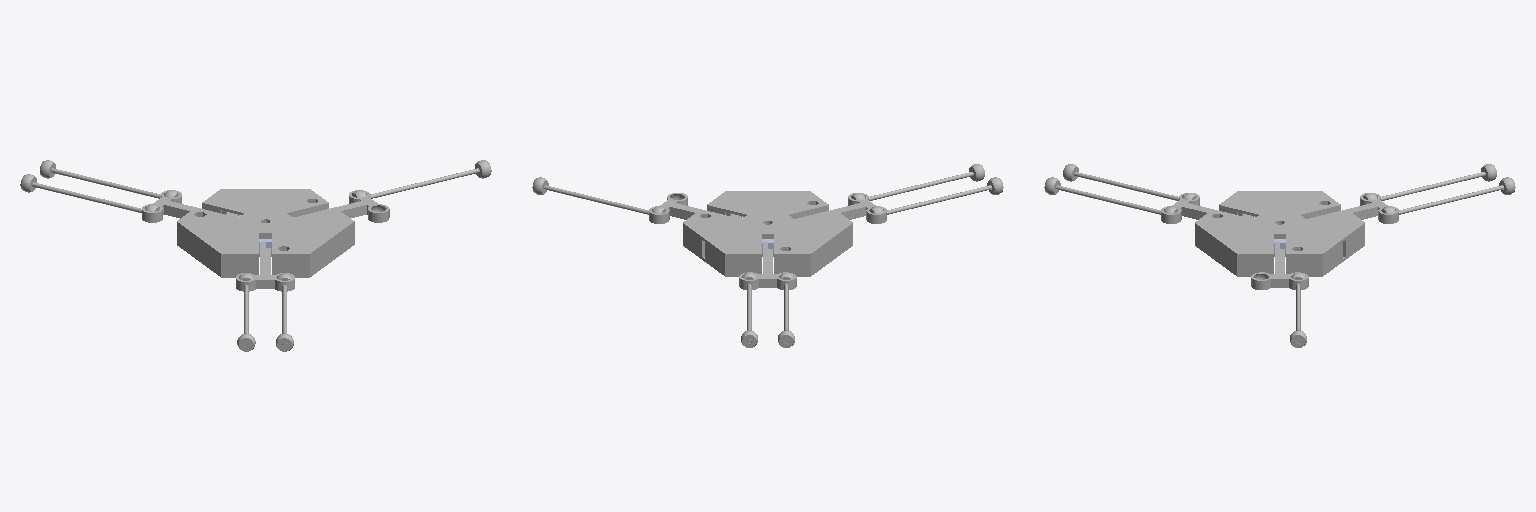
The robot description file, URDF, robot "delta_robot":
<?xml version="1.0" encoding="utf-8"?>
<!-- This URDF was automatically created by SolidWorks to URDF Exporter! -->
<robot name="delta_robot">
  <link name="base_footprint"/>

  <joint name="base" type="fixed">
    <origin xyz="0 0 1" rpy="0 0 0" />
    <parent link="base_footprint" />
    <child link="base_link" />
    <axis xyz="0 0 0" />
  </joint>

  <link name="base_link">
    <inertial>
      <origin xyz="-5.1924E-05 -8.9934E-05 -0.0009175" rpy="0 0 0" />
      <mass value="0.049302" />
      <inertia ixx="4.072E-05" ixy="1.0945E-07" ixz="-1.03E-08" iyy="4.0846E-05" iyz="-1.7839E-08" izz="8.0293E-05" />
    </inertial>
    <visual>
      <origin xyz="0 0 0" rpy="0 0 0" />
      <geometry>
        <mesh filename="package://delta_robot_description/meshes/base_link.STL" />
      </geometry>
      <material name="">
        <color rgba="0.75294 0.75294 0.75294 1" />
      </material>
    </visual>
    <collision>
      <origin xyz="0 0 0" rpy="0 0 0" />
      <geometry>
        <mesh filename="package://delta_robot_description/meshes/base_link.STL" />
      </geometry>
    </collision>
  </link>

  <joint name="proximal_base1" type="revolute">
    <origin xyz="0.028 0 0" rpy="0 0 0" />
    <parent link="base_link" />
    <child link="proximal_link1" />
    <axis xyz="0 1 0" />
    <limit lower="0" upper="1.5708" effort="0" velocity="0" />
  </joint>

  <link name="proximal_link1">
    <inertial>
      <origin xyz="0 0 0" rpy="0 0 0" />
      <mass value="0.0034691" />
      <inertia ixx="1.4895E-07" ixy="-1.071E-08" ixz="8.8878E-23" iyy="1.0031E-06" iyz="5.982E-24" izz="1.1223E-06" />
    </inertial>
    <visual>
      <origin xyz="0 0 0" rpy="0 0 0" />
      <geometry>
        <mesh filename="package://delta_robot_description/meshes/proximal_link1.STL" />
      </geometry>
      <material name="">
        <color rgba="0.75294 0.75294 0.75294 1" />
      </material>
    </visual>
    <collision>
      <origin xyz="0 0 0" rpy="0 0 0" />
      <geometry>
        <mesh filename="package://delta_robot_description/meshes/proximal_link1.STL" />
      </geometry>
    </collision>
  </link>

  <joint name="distal_proximal_1_y" type="revolute">
    <origin xyz="0.05 -0.0125 0" rpy="0 0 0" />
    <parent link="proximal_link1" />
    <child link="shoulder_dp1" />
    <axis xyz="0 1 0" />
    <limit lower="-3.14159" upper="3.14159" effort="0" velocity="0" />
  </joint>

  <link name="shoulder_dp1">
    <inertial>
      <origin xyz="0 0 0" rpy="0 0 0" />
      <mass value="0.0001" />
      <inertia ixx="0" ixy="0" ixz="0" iyy="0" iyz="0" izz="0" />
    </inertial>
  </link>

  <joint name="distal_proximal_1_x" type="revolute">
    <origin xyz="0 0 0" rpy="0 0 0" />
    <parent link="shoulder_dp1" />
    <child link="distal_link1" />
    <axis xyz="0 0 -1" />
    <limit lower="-3.14159" upper="3.14159" effort="0" velocity="0" />
  </joint>


  <!--joint name="distal_proximal_1" type="revolute">
    <origin xyz="0.05 -0.0125 0" rpy="0 0 0" />
    <parent link="proximal_link1" />
    <child link="distal_link1" />
    <axis xyz="0 1 0" />
    <limit lower="0" upper="1.5708" effort="0" velocity="0" />
  </joint-->

  <link name="distal_link1">
    <inertial>
      <origin xyz="0 -0 0" rpy="0 0 0" />
      <mass value="0.001998" />
      <inertia ixx="2.3346E-08" ixy="2.0322E-21" ixz="2.0321E-21" iyy="6.0541E-07" iyz="-1.3028E-24" izz="6.0541E-07" />
    </inertial>
    <visual>
      <origin xyz="0 0 0" rpy="0 0 0" />
      <geometry>
        <mesh filename="package://delta_robot_description/meshes/distal_link1.STL" />
      </geometry>
      <material name="">
        <color rgba="0.75294 0.75294 0.75294 1" />
      </material>
    </visual>
    <collision>
      <origin xyz="0 0 0" rpy="0 0 0" />
      <geometry>
        <mesh filename="package://delta_robot_description/meshes/distal_link1.STL" />
      </geometry>
    </collision>
  </link>

 

  <!--joint name="platform_distal" type="revolute">
    <origin xyz="0.093 0 0" rpy="0 0 0" />
    <parent link="distal_link1" />
    <child link="platform_link" />
    <axis xyz="0 1 0" />
    <limit lower="0" upper="1.5708" effort="0" velocity="0" />
  </joint-->
  <joint name="platform_base_z" type="prismatic">
    <origin xyz="0 0 0" rpy="0 0 0" />
    <parent link="base_link" />
    <child link="connector_pb1" />
    <axis xyz="0 0 1" />
    <limit lower="-0.2" upper="0.0" effort="0" velocity="0" />
  </joint>

  <link name="connector_pb1">
    <inertial>
      <origin xyz="0 0 0" rpy="0 0 0" />
      <mass value="0.0001" />
      <inertia ixx="0" ixy="0" ixz="0" iyy="0" iyz="0" izz="0" />
    </inertial>
  </link>

  <joint name="platform_base_x" type="prismatic">
    <origin xyz="0 0 0" rpy="0 0 0" />
    <parent link="connector_pb1" />
    <child link="connector_pb2" />
    <axis xyz="1 0 0" />
    <limit lower="-0.2" upper="0.2" effort="0" velocity="0" />
  </joint>

  <link name="connector_pb2">
    <inertial>
      <origin xyz="0 0 0" rpy="0 0 0" />
      <mass value="0.0001" />
      <inertia ixx="0" ixy="0" ixz="0" iyy="0" iyz="0" izz="0" />
    </inertial>
  </link>

  <joint name="platform_base_y" type="prismatic">
    <origin xyz="0 0 0" rpy="0 0 0" />
    <parent link="connector_pb2" />
    <child link="platform_link" />
    <axis xyz="0 1 0" />
    <limit lower="-0.2" upper="0.2" effort="0" velocity="0" />
  </joint>





  <link name="platform_link">
    <inertial>
      <origin xyz="0 0 0" rpy="0 0 0" />
      <mass value="0.0065362" />
      <inertia ixx="1.1161E-06" ixy="4.382E-22" ixz="8.9273E-24" iyy="1.1161E-06" iyz="7.1644E-23" izz="2.1753E-06" />
    </inertial>
    <visual>
      <origin xyz="0 0 0" rpy="0 0 0" />
      <geometry>
        <mesh filename="package://delta_robot_description/meshes/platform_link.STL" />
      </geometry>
      <material name="">
        <color rgba="0.79216 0.81961 0.93333 1" />
      </material>
    </visual>
    <collision>
      <origin xyz="0 0 0" rpy="0 0 0" />
      <geometry>
        <mesh filename="package://delta_robot_description/meshes/platform_link.STL" />
      </geometry>
    </collision>
  </link>

  <joint name="distal_proximal_2_y" type="revolute">
    <origin xyz="0.05 0.0125 0" rpy="0 0 0" />
    <parent link="proximal_link1" />
    <child link="shoulder_dp2" />
    <axis xyz="0 1 0" />
    <limit lower="-3.14159" upper="3.14159" effort="0" velocity="0" />
    <mimic joint="distal_proximal_1_y" multiplier="1" offset="0" />
  </joint>

  <link name="shoulder_dp2">
    <inertial>
      <origin xyz="0 0 0" rpy="0 0 0" />
      <mass value="0.0001" />
      <inertia ixx="0" ixy="0" ixz="0" iyy="0" iyz="0" izz="0" />
    </inertial>
  </link>

  <joint name="distal_proximal_2_x" type="revolute">
    <origin xyz="0 0 0" rpy="0 0 0" />
    <parent link="shoulder_dp2" />
    <child link="distal_link2" />
    <axis xyz="0 0 -1" />
    <limit lower="-3.14159" upper="3.14159" effort="0" velocity="0" />
    <mimic joint="distal_proximal_1_x" multiplier="1" offset="0" />
  </joint>

  <!--joint name="distal_proximal_2" type="revolute">
    <origin xyz="0.05 0.0125 0" rpy="0 0 0" />
    <parent link="proximal_link1" />
    <child link="distal_link2" />
    <axis xyz="0 1 0" />
    <limit lower="0" upper="1.5708" effort="0" velocity="0" />
    <mimic joint="distal_proximal_1" multiplier="1" offset="0" />
  </joint-->


  <link name="distal_link2">
    <inertial>
      <origin xyz="0 0 0" rpy="0 0 0" />
      <mass value="0.001998" />
      <inertia ixx="2.3346E-08" ixy="2.0315E-21" ixz="2.0321E-21" iyy="6.0541E-07" iyz="-1.3028E-24" izz="6.0541E-07" />
    </inertial>
    <visual>
      <origin xyz="0 0 0" rpy="0 0 0" />
      <geometry>
        <mesh filename="package://delta_robot_description/meshes/distal_link2.STL" />
      </geometry>
      <material name="">
        <color rgba="0.75294 0.75294 0.75294 1" />
      </material>
    </visual>
    <collision>
      <origin xyz="0 0 0" rpy="0 0 0" />
      <geometry>
        <mesh filename="package://delta_robot_description/meshes/distal_link2.STL" />
      </geometry>
    </collision>
  </link>

  <joint name="proximal_base2" type="revolute">
    <origin xyz="-0.014 0.024248711 0" rpy="0 0 2.094395102" />
    <parent link="base_link" />
    <child link="proximal_link2" />
    <axis xyz="0 1 0" />
    <limit lower="0" upper="1.5708" effort="0" velocity="0" />
  </joint>
  
  <link name="proximal_link2">
    <inertial>
      <origin xyz="0 0 0" rpy="0 0 0" />
      <mass value="0.0034691" />
      <inertia ixx="1.4895E-07" ixy="-1.071E-08" ixz="-3.9606E-23" iyy="1.0031E-06" iyz="-8.1197E-23" izz="1.1223E-06" />
    </inertial>
    <visual>
      <origin xyz="0 0 0" rpy="0 0 0" />
      <geometry>
        <mesh filename="package://delta_robot_description/meshes/proximal_link1.STL" />
      </geometry>
      <material name="">
        <color rgba="0.75294 0.75294 0.75294 1" />
      </material>
    </visual>
    <collision>
      <origin xyz="0 0 0" rpy="0 0 0" />
      <geometry>
        <mesh filename="package://delta_robot_description/meshes/proximal_link1.STL" />
      </geometry>
    </collision>
  </link>

  <joint name="distal_proximal_3_y" type="revolute">
    <origin xyz="0.05 -0.0125 0" rpy="0 0 0" />
    <parent link="proximal_link2" />
    <child link="shoulder_dp3" />
    <axis xyz="0 1 0" />
    <limit lower="-3.14159" upper="3.14159" effort="0" velocity="0" />
  </joint>

  <link name="shoulder_dp3">
    <inertial>
      <origin xyz="0 0 0" rpy="0 0 0" />
      <mass value="0.0001" />
      <inertia ixx="0" ixy="0" ixz="0" iyy="0" iyz="0" izz="0" />
    </inertial>
  </link>

  <joint name="distal_proximal_3_x" type="revolute">
    <origin xyz="0 0 0" rpy="0 0 0" />
    <parent link="shoulder_dp3" />
    <child link="distal_link3" />
    <axis xyz="0 0 -1" />
    <limit lower="-3.14159" upper="3.14159" effort="0" velocity="0" />
  </joint>


  <!--joint name="distal_proximal3" type="revolute">
    <origin xyz="0.0395 -0.0125 0" rpy="0 0 0" />
    <parent link="proximal_link2" />
    <child link="distal_link3" />
    <axis xyz="0 1 0" />
    <limit lower="0" upper="1.5708" effort="0" velocity="0" />
  </joint-->
  
  <link name="distal_link3">
    <inertial>
      <origin xyz="0 0 0" rpy="0 0 0" />
      <mass value="0.001998" />
      <inertia ixx="2.3346E-08" ixy="2.2723E-21" ixz="1.976E-21" iyy="6.0541E-07" iyz="-1.1526E-24" izz="6.0541E-07" />
    </inertial>
    <visual>
      <origin xyz="0 0 0" rpy="0 0 0" />
      <geometry>
        <mesh filename="package://delta_robot_description/meshes/distal_link3.STL" />
      </geometry>
      <material name="">
        <color rgba="0.75294 0.75294 0.75294 1" />
      </material>
    </visual>
    <collision>
      <origin xyz="0 0 0" rpy="0 0 0" />
      <geometry>
        <mesh filename="package://delta_robot_description/meshes/distal_link3.STL" />
      </geometry>
    </collision>
  </link>


  <joint name="distal_proximal_4_y" type="revolute">
    <origin xyz="0.05 0.0125 0" rpy="0 0 0" />
    <parent link="proximal_link2" />
    <child link="shoulder_dp4" />
    <axis xyz="0 1 0" />
    <limit lower="-3.14159" upper="3.14159" effort="0" velocity="0" />
    <mimic joint="distal_proximal_3_y" multiplier="1" offset="0" />
  </joint>

  <link name="shoulder_dp4">
    <inertial>
      <origin xyz="0 0 0" rpy="0 0 0" />
      <mass value="0.0001" />
      <inertia ixx="0" ixy="0" ixz="0" iyy="0" iyz="0" izz="0" />
    </inertial>
  </link>

  <joint name="distal_proximal_4_x" type="revolute">
    <origin xyz="0 0 0" rpy="0 0 0" />
    <parent link="shoulder_dp4" />
    <child link="distal_link4" />
    <axis xyz="0 0 -1" />
    <limit lower="-3.14159" upper="3.14159" effort="0" velocity="0" />
    <mimic joint="distal_proximal_3_x" multiplier="1" offset="0" />
  </joint>

  <!--joint name="distal_proximal4" type="revolute">
    <origin xyz="0.0395 0.0125 0" rpy="0 0 0" />
    <parent link="proximal_link2" />
    <child link="distal_link4" />
    <axis xyz="0 1 0" />
    <limit lower="0" upper="1.5708" effort="0" velocity="0" />
    <mimic joint="distal_proximal3" multiplier="1" offset="0" />
  </joint-->
  
  <link name="distal_link4">
    <inertial>
      <origin xyz="0 0 0" rpy="0 0 0" />
      <mass value="0.001998" />
      <inertia ixx="2.3346E-08" ixy="2.0473E-21" ixz="1.9762E-21" iyy="6.0541E-07" iyz="-8.6332E-25" izz="6.0541E-07" />
    </inertial>
    <visual>
      <origin xyz="0 0 0" rpy="0 0 0" />
      <geometry>
        <mesh filename="package://delta_robot_description/meshes/distal_link4.STL" />
      </geometry>
      <material name="">
        <color rgba="0.75294 0.75294 0.75294 1" />
      </material>
    </visual>
    <collision>
      <origin xyz="0 0 0" rpy="0 0 0" />
      <geometry>
        <mesh filename="package://delta_robot_description/meshes/distal_link4.STL" />
      </geometry>
    </collision>
  </link>

  <joint name="proximal_base3" type="revolute">
    <origin xyz="-0.014 -0.024248711 0" rpy="0 0 -2.094395102" />
    <parent link="base_link" />
    <child link="proximal_link3" />
    <axis xyz="0 1 0" />
    <limit lower="0" upper="1.5708" effort="0" velocity="0" />
  </joint>
  
  <link name="proximal_link3">
    <inertial>
      <origin xyz="0 0 0" rpy="0 0 0" />
      <mass value="0.0034691" />
      <inertia ixx="1.4895E-07" ixy="-1.071E-08" ixz="-1.2169E-23" iyy="1.0031E-06" iyz="-1.5593E-23" izz="1.1223E-06" />
    </inertial>
    <visual>
      <origin xyz="0 0 0" rpy="0 0 0" />
      <geometry>
        <mesh filename="package://delta_robot_description/meshes/proximal_link1.STL" />
      </geometry>
      <material name="">
        <color rgba="0.75294 0.75294 0.75294 1" />
      </material>
    </visual>
    <collision>
      <origin xyz="0 0 0" rpy="0 0 0" />
      <geometry>
        <mesh filename="package://delta_robot_description/meshes/proximal_link1.STL" />
      </geometry>
    </collision>
  </link>

  <joint name="distal_proximal_5_y" type="revolute">
    <origin xyz="0.05 -0.0125 0" rpy="0 0 0" />
    <parent link="proximal_link3" />
    <child link="shoulder_dp5" />
    <axis xyz="0 1 0" />
    <limit lower="-3.14159" upper="3.14159" effort="0" velocity="0" />
  </joint>

  <link name="shoulder_dp5">
    <inertial>
      <origin xyz="0 0 0" rpy="0 0 0" />
      <mass value="0.0001" />
      <inertia ixx="0" ixy="0" ixz="0" iyy="0" iyz="0" izz="0" />
    </inertial>
  </link>

  <joint name="distal_proximal_5_x" type="revolute">
    <origin xyz="0 0 0" rpy="0 0 0" />
    <parent link="shoulder_dp5" />
    <child link="distal_link5" />
    <axis xyz="0 0 -1" />
    <limit lower="-3.14159" upper="3.14159" effort="0" velocity="0" />
  </joint>




  <!--joint name="distal_proximal5" type="revolute">
    <origin xyz="0.071887 -0.0125 0" rpy="0 0 0" />
    <parent link="proximal_link3" />
    <child link="distal_link5" />
    <axis xyz="0 1 0" />
    <limit lower="0" upper="1.5708" effort="0" velocity="0" />
  </joint-->
  
  <link name="distal_link5">
    <inertial>
      <origin xyz="0 0 0" rpy="0 0 0" />
      <mass value="0.001998" />
      <inertia ixx="2.3346E-08" ixy="2.0175E-21" ixz="1.9845E-21" iyy="6.0541E-07" iyz="-7.0649E-25" izz="6.0541E-07" />
    </inertial>
    <visual>
      <origin xyz="0 0 0" rpy="0 0 0" />
      <geometry>
        <mesh filename="package://delta_robot_description/meshes/distal_link5.STL" />
      </geometry>
      <material name="">
        <color rgba="0.75294 0.75294 0.75294 1" />
      </material>
    </visual>
    <collision>
      <origin xyz="0 0 0" rpy="0 0 0" />
      <geometry>
        <mesh filename="package://delta_robot_description/meshes/distal_link5.STL" />
      </geometry>
    </collision>
  </link>


  <joint name="distal_proximal_6_y" type="revolute">
    <origin xyz="0.05 0.0125 0" rpy="0 0 0" />
    <parent link="proximal_link3" />
    <child link="shoulder_dp6" />
    <axis xyz="0 1 0" />
    <limit lower="-3.14159" upper="3.14159" effort="0" velocity="0" />
    <mimic joint="distal_proximal_5_y" multiplier="1" offset="0" />
  </joint>

  <link name="shoulder_dp6">
    <inertial>
      <origin xyz="0 0 0" rpy="0 0 0" />
      <mass value="0.0001" />
      <inertia ixx="0" ixy="0" ixz="0" iyy="0" iyz="0" izz="0" />
    </inertial>
  </link>

  <joint name="distal_proximal_6_x" type="revolute">
    <origin xyz="0 0 0" rpy="0 0 0" />
    <parent link="shoulder_dp6" />
    <child link="distal_link6" />
    <axis xyz="0 0 -1" />
    <limit lower="-3.14159" upper="3.14159" effort="0" velocity="0" />
    <mimic joint="distal_proximal_5_x" multiplier="1" offset="0" />
  </joint>

  <!--joint name="distal_proximal6" type="revolute">
    <origin xyz="0.071887 0.0125 0" rpy="0 0 0" />
    <parent link="proximal_link3" />
    <child link="distal_link6" />
    <axis xyz="0 1 0" />
    <limit lower="0" upper="1.5708" effort="0" velocity="0" />
    <mimic joint="distal_proximal5" multiplier="1" offset="0" />
  </joint-->
  
  <link name="distal_link6">
    <inertial>
      <origin xyz="0 0 0" rpy="0 0 0" />
      <mass value="0.001998" />
      <inertia ixx="2.3346E-08" ixy="2.0787E-21" ixz="1.9845E-21" iyy="6.0541E-07" iyz="-1.1164E-24" izz="6.0541E-07" />
    </inertial>
    <visual>
      <origin xyz="0 0 0" rpy="0 0 0" />
      <geometry>
        <mesh filename="package://delta_robot_description/meshes/distal_link6.STL" />
      </geometry>
      <material name="">
        <color rgba="0.75294 0.75294 0.75294 1" />
      </material>
    </visual>
    <collision>
      <origin xyz="0 0 0" rpy="0 0 0" />
      <geometry>
        <mesh filename="package://delta_robot_description/meshes/distal_link6.STL" />
      </geometry>
    </collision>
  </link>
  
</robot>

--- Facts derived from the render (not from the file) ---
3 views of the same robot in one strip: view 1: azimuth 30°, elevation 25°; view 2: azimuth 150°, elevation 25°; view 3: azimuth 270°, elevation 25° (orthographic).
Model delta_robot with 20 links and 19 joints (15 revolute, 3 prismatic, 1 fixed), rooted at base_footprint, posed every joint at zero.
Links seen in each view (by area): view 1: base_link, proximal_link3, proximal_link1, proximal_link2, distal_link2, distal_link3, distal_link4, distal_link5, distal_link6; view 2: base_link, proximal_link2, proximal_link1, proximal_link3, distal_link2, distal_link5, distal_link6, distal_link3, distal_link4; view 3: base_link, proximal_link1, proximal_link2, proximal_link3, distal_link3, distal_link6, distal_link4, distal_link5, distal_link2.
Link boxes in pixels (bbox=[...]): base_link: bbox=[177, 189, 354, 277]; proximal_link3: bbox=[236, 242, 294, 291]; proximal_link1: bbox=[326, 190, 389, 222]; proximal_link2: bbox=[142, 190, 237, 222]; distal_link2: bbox=[352, 160, 491, 198]; distal_link3: bbox=[40, 160, 178, 198]; distal_link4: bbox=[20, 174, 159, 212]; distal_link5: bbox=[237, 273, 255, 351]; distal_link6: bbox=[276, 273, 293, 351]; base_link: bbox=[683, 191, 852, 276]; proximal_link2: bbox=[739, 242, 796, 289]; proximal_link1: bbox=[649, 193, 722, 223]; proximal_link3: bbox=[813, 193, 886, 223]; distal_link2: bbox=[532, 177, 666, 214]; distal_link5: bbox=[869, 177, 1003, 214]; distal_link6: bbox=[851, 164, 984, 200]; distal_link3: bbox=[741, 272, 757, 347]; distal_link4: bbox=[778, 272, 794, 347]; base_link: bbox=[1195, 191, 1364, 276]; proximal_link1: bbox=[1251, 242, 1308, 289]; proximal_link2: bbox=[1325, 193, 1398, 223]; proximal_link3: bbox=[1161, 193, 1234, 223]; distal_link3: bbox=[1381, 177, 1515, 214]; distal_link6: bbox=[1044, 177, 1178, 214]; distal_link4: bbox=[1363, 164, 1496, 200]; distal_link5: bbox=[1063, 164, 1196, 200]; distal_link2: bbox=[1290, 272, 1306, 347].
Size in the robot's own frame: 0.2768 by 0.3196 by 0.017 metres.
Meshes: 9 distinct files referenced, 10 mesh visuals loaded (8 binary STL); not drawn: 1 (reference not matched to a file when rendering).
